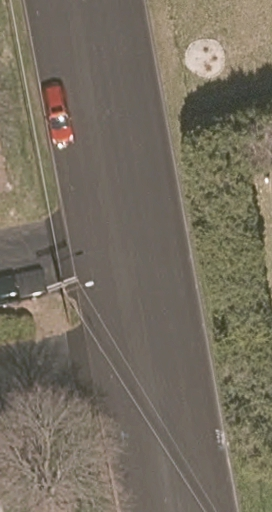DT: (45, 274, 94, 310)
